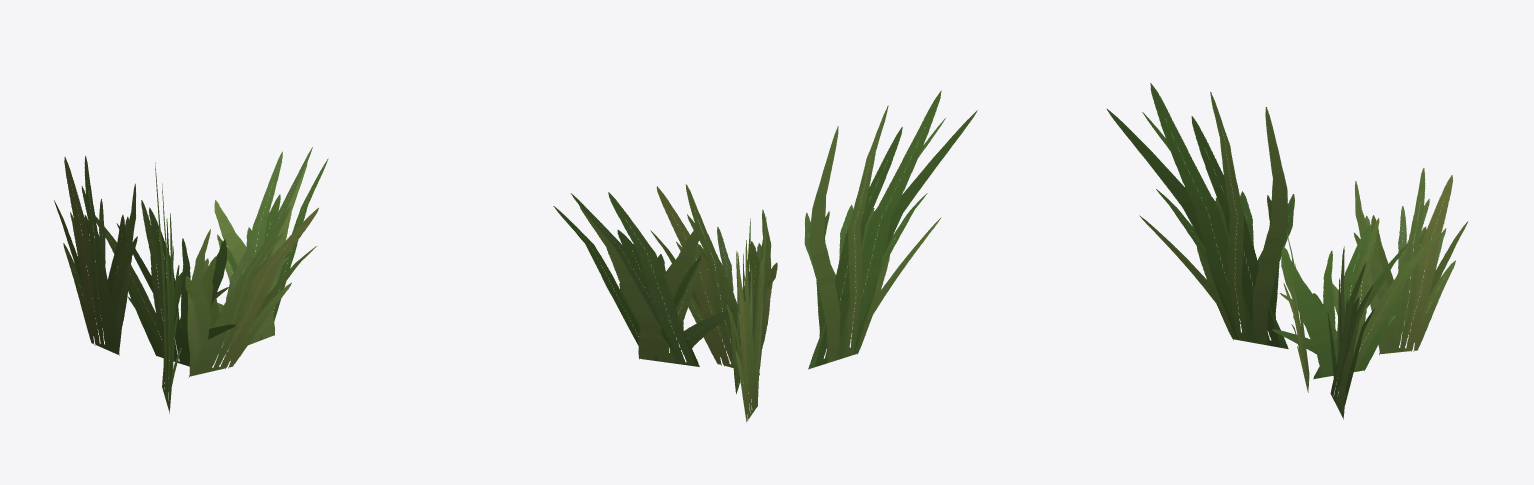
Rendered from forest_grass_002_b_LOD1.gltf.
3 views of the same model, side by side, from view 1: azimuth 30°, elevation 25°; view 2: azimuth 150°, elevation 25°; view 3: azimuth 270°, elevation 25° (orthographic). The views are drawn at different scales.
Parts seen in each view (by area): view 1: forest_grass_002_b_LOD1; view 2: forest_grass_002_b_LOD1; view 3: forest_grass_002_b_LOD1.
Part boxes in pixels (bbox=[...]): forest_grass_002_b_LOD1: bbox=[54, 147, 328, 413]; forest_grass_002_b_LOD1: bbox=[553, 90, 977, 421]; forest_grass_002_b_LOD1: bbox=[1106, 83, 1468, 419].
Bounding box in the file's own units: 0.8352 × 0.6567 × 0.8772.
Materials: 1 (1 with a texture image).
